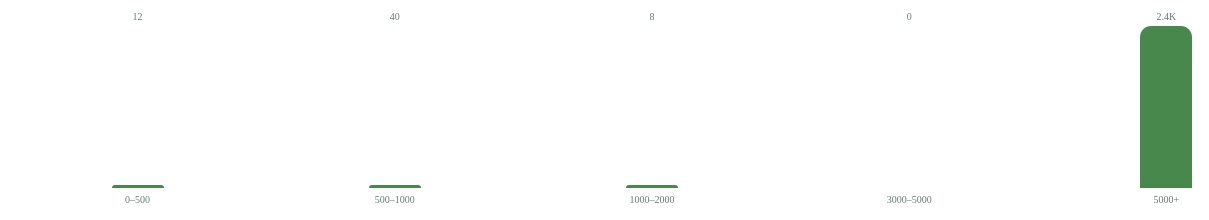
Scenario: BarChart (V6 audit S5/S7/S8) › shows one tooltip at a time, and none at rest
The width and height of the screenshot is (1209, 220).
Check: the text "0–500: 12" is not shown
Focus the button "12" at (138,100), box [12,12,263,188]
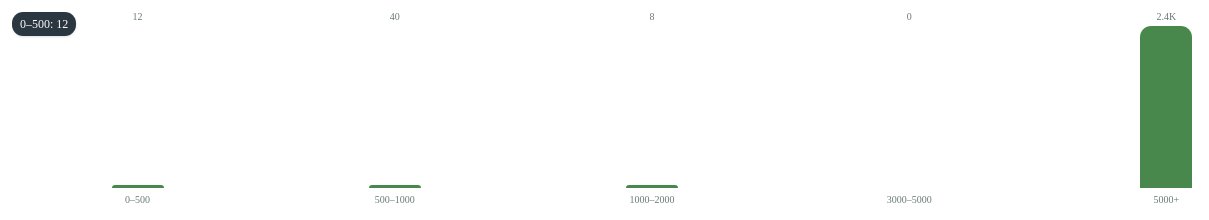
Check: the text "0–500: 12" is shown, box [12,12,76,36]
Leave the button "0–500: 12 12", box [12,12,263,188]
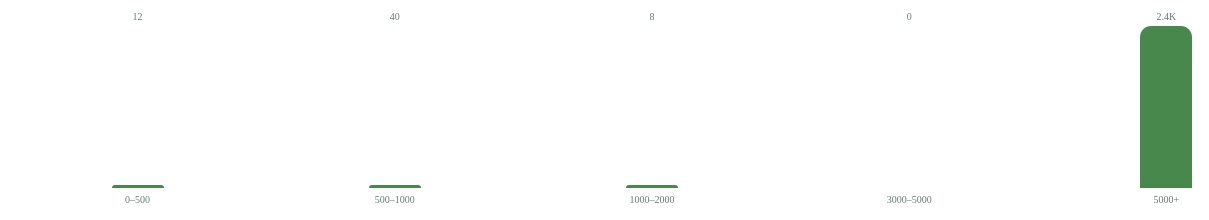
Check: the text "0–500: 12" is gone
